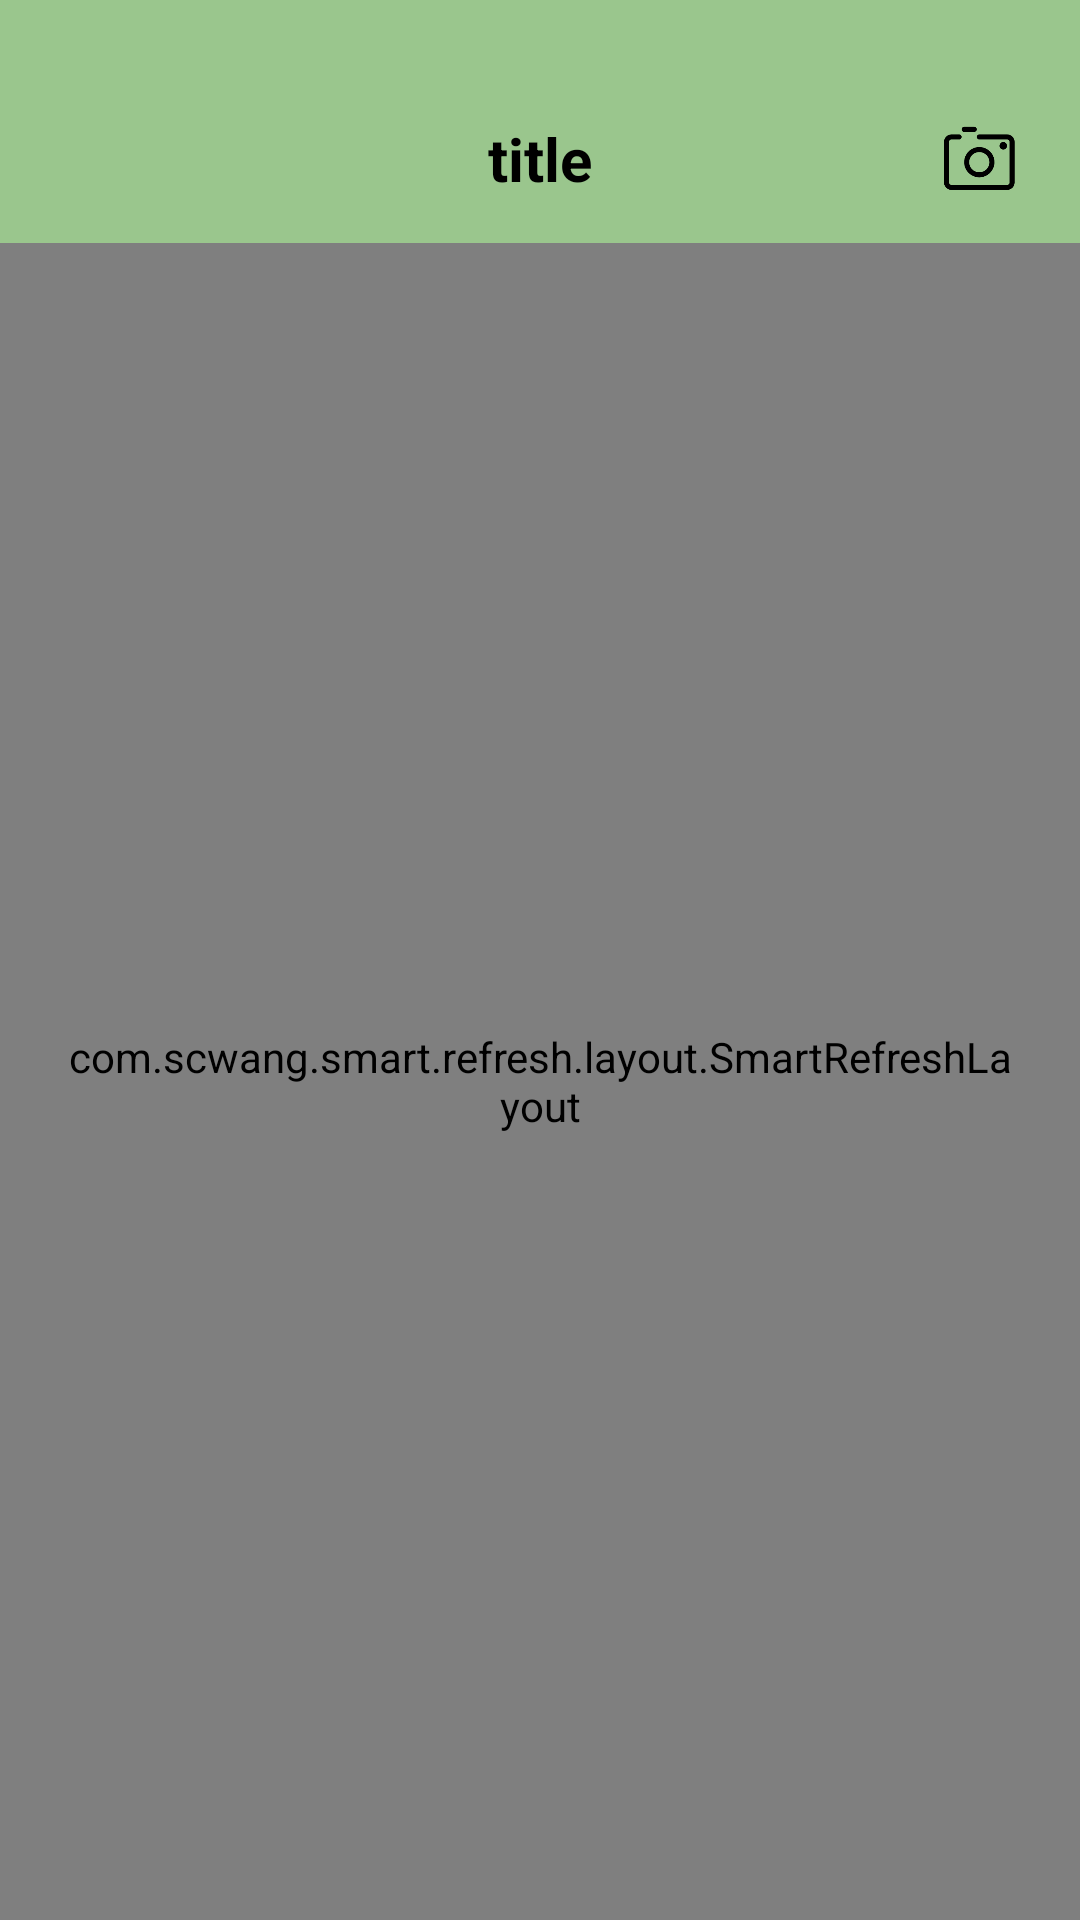

Icons on this 1080 × 1920 Android screen, each with the point to tap as point (x, y):
camera: point (979, 158)
